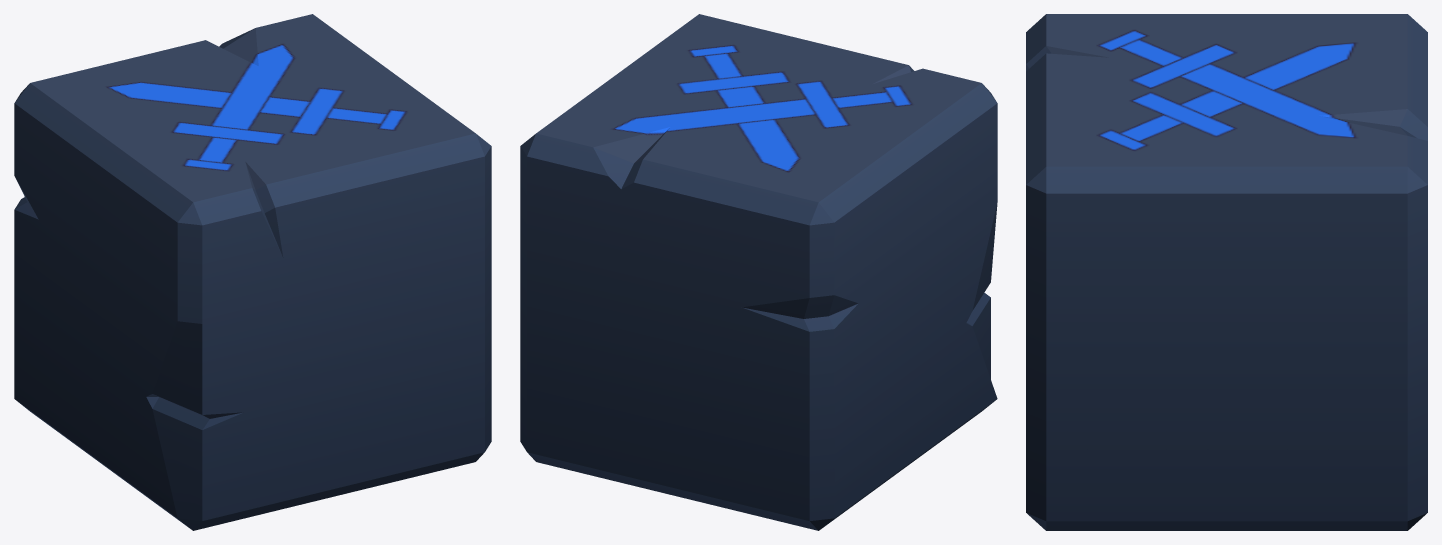
Rendered from Tile_Attack_Cracked.fbx.
The picture shows the model from 3 angles, left to right: view 1: azimuth 30°, elevation 25°; view 2: azimuth 150°, elevation 25°; view 3: azimuth 270°, elevation 25°; orthographic projection. The views are drawn at different scales.
Visible parts, largest first — view 1: Tile Biru Coak Attack; view 2: Tile Biru Coak Attack; view 3: Tile Biru Coak Attack.
Part boxes in pixels (x1,y1,x2,y2): Tile Biru Coak Attack: (14,14,491,530); Tile Biru Coak Attack: (520,14,997,530); Tile Biru Coak Attack: (1026,14,1427,530).
Bounding box in the file's own units: 1 × 1 × 1.
1 material, 1 textured.
